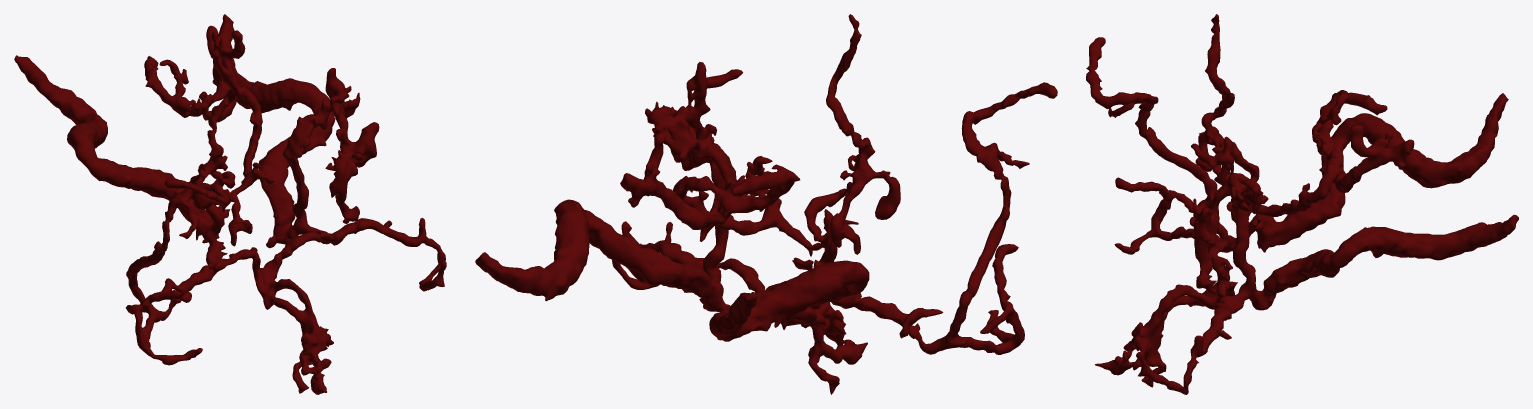
The model's file is Arteries.obj.
3 renders of one model, left to right at view 1: azimuth 30°, elevation 25°; view 2: azimuth 150°, elevation 25°; view 3: azimuth 270°, elevation 25°, orthographic. The views are drawn at different scales.
Parts seen in each view (by area): view 1: grp1; view 2: grp1; view 3: grp1.
Part boxes in pixels (bbox=[...]): grp1: bbox=[14, 14, 446, 394]; grp1: bbox=[475, 14, 1057, 394]; grp1: bbox=[1086, 14, 1518, 394].
Size of the model in its own units: 89.01 by 91.3 by 102.
